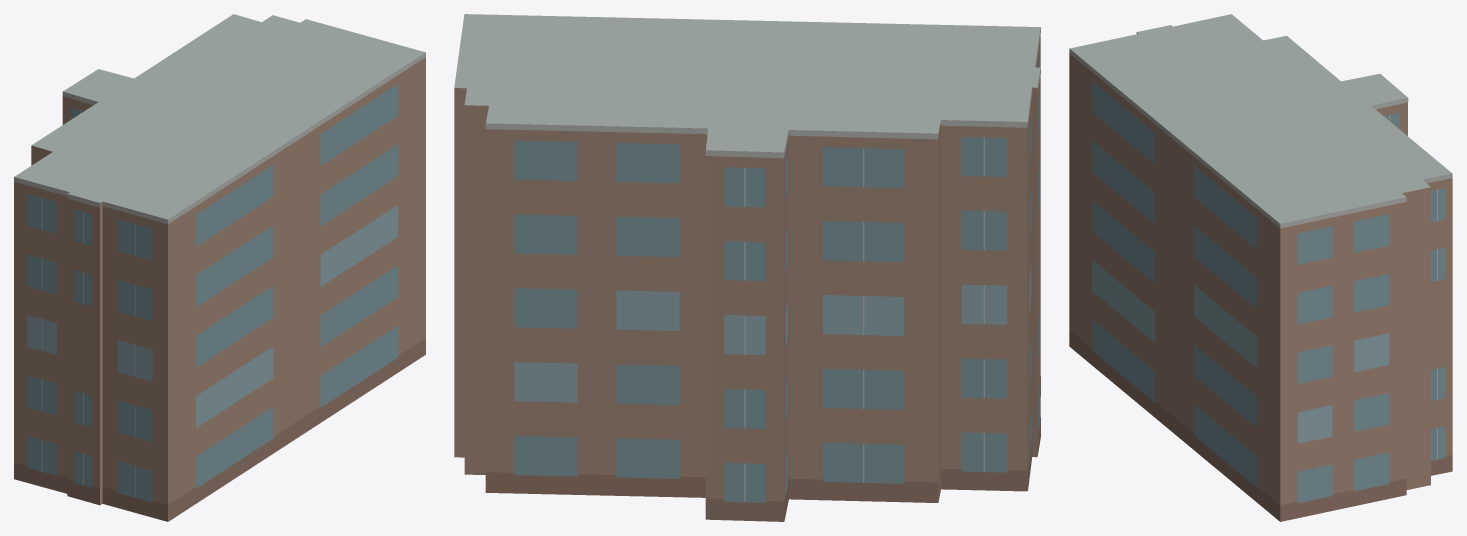
File: survey-upis-32837161.glb
3 views of the same model, side by side, from view 1: azimuth 30°, elevation 25°; view 2: azimuth 150°, elevation 25°; view 3: azimuth 270°, elevation 25° (orthographic). The views are drawn at different scales.
Parts seen in each view (by area): view 1: survey-upis-32837161.tmp; view 2: survey-upis-32837161.tmp; view 3: survey-upis-32837161.tmp.
Part boxes in pixels (x1,y1,x2,y2): survey-upis-32837161.tmp: (14, 14, 425, 521); survey-upis-32837161.tmp: (454, 14, 1040, 521); survey-upis-32837161.tmp: (1069, 14, 1452, 521).
Size of the model in its own units: 23.73 by 15.7 by 18.3.
